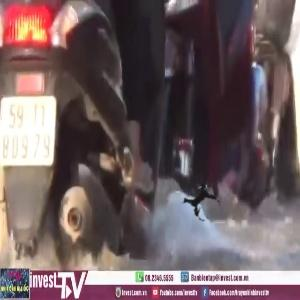drone: (167, 164, 239, 236)
